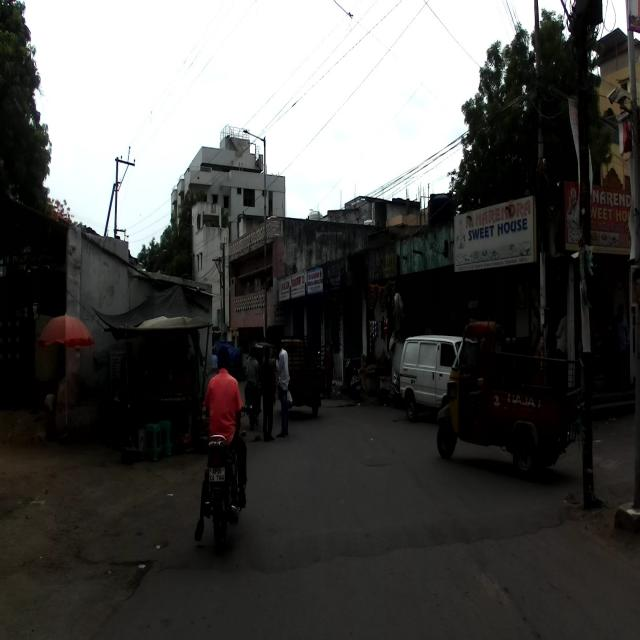autorickshaw: (436, 308, 583, 474), (273, 333, 321, 418)
car: (398, 334, 476, 424)
motorcycle: (204, 400, 252, 545)
